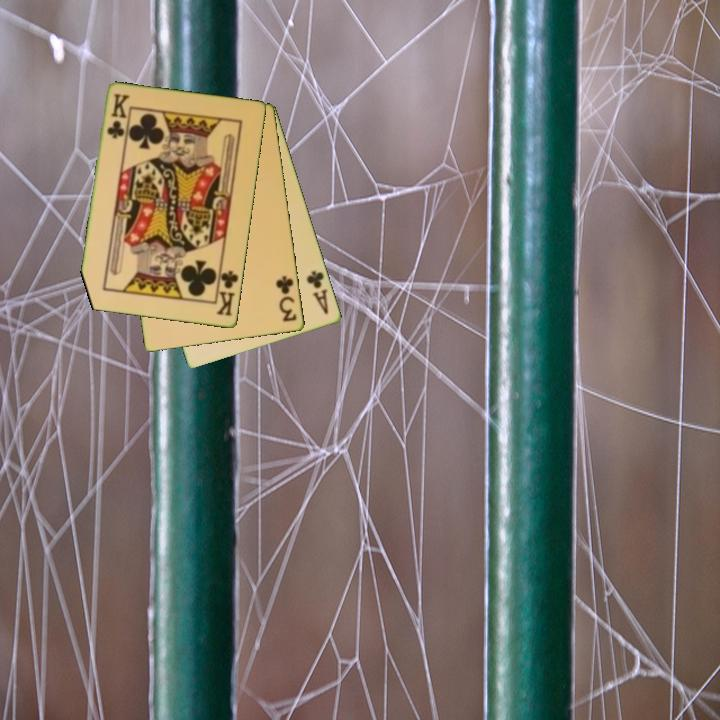3c: (273, 272, 300, 325)
Ac: (303, 267, 332, 318)
Kc: (213, 264, 242, 319), (104, 90, 131, 142)
